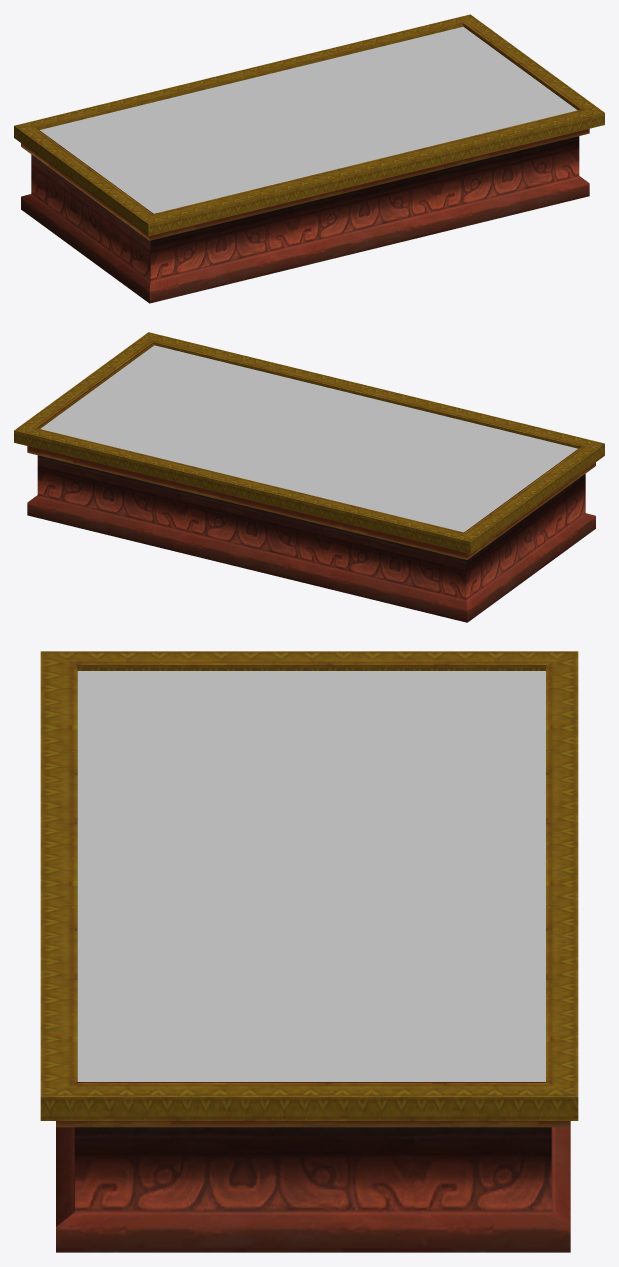
The model's file is environment_Building_hantianta_001_h.FBX.
The picture shows the model from 3 angles, top to bottom: view 1: azimuth 30°, elevation 25°; view 2: azimuth 150°, elevation 25°; view 3: azimuth 270°, elevation 25°; orthographic projection. The views are drawn at different scales.
Visible parts, largest first — view 1: environment_Building_hantianta_001_h01, environment_Building_hantianta_001_h02; view 2: environment_Building_hantianta_001_h01, environment_Building_hantianta_001_h02; view 3: environment_Building_hantianta_001_h02, environment_Building_hantianta_001_h01.
Boxes of the visible parts, x1,y1,x2,y2 form: environment_Building_hantianta_001_h01: (14, 14, 604, 303); environment_Building_hantianta_001_h02: (40, 26, 577, 213); environment_Building_hantianta_001_h01: (14, 332, 604, 622); environment_Building_hantianta_001_h02: (40, 345, 577, 532); environment_Building_hantianta_001_h02: (77, 671, 545, 1081); environment_Building_hantianta_001_h01: (40, 651, 578, 1252).
Bounding box in the file's own units: 1706 × 298 × 871.
